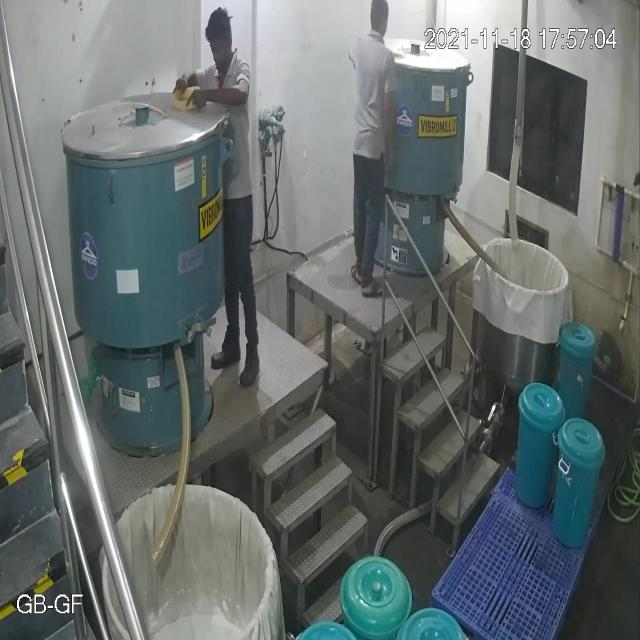no-shoes: (360, 276, 386, 299)
